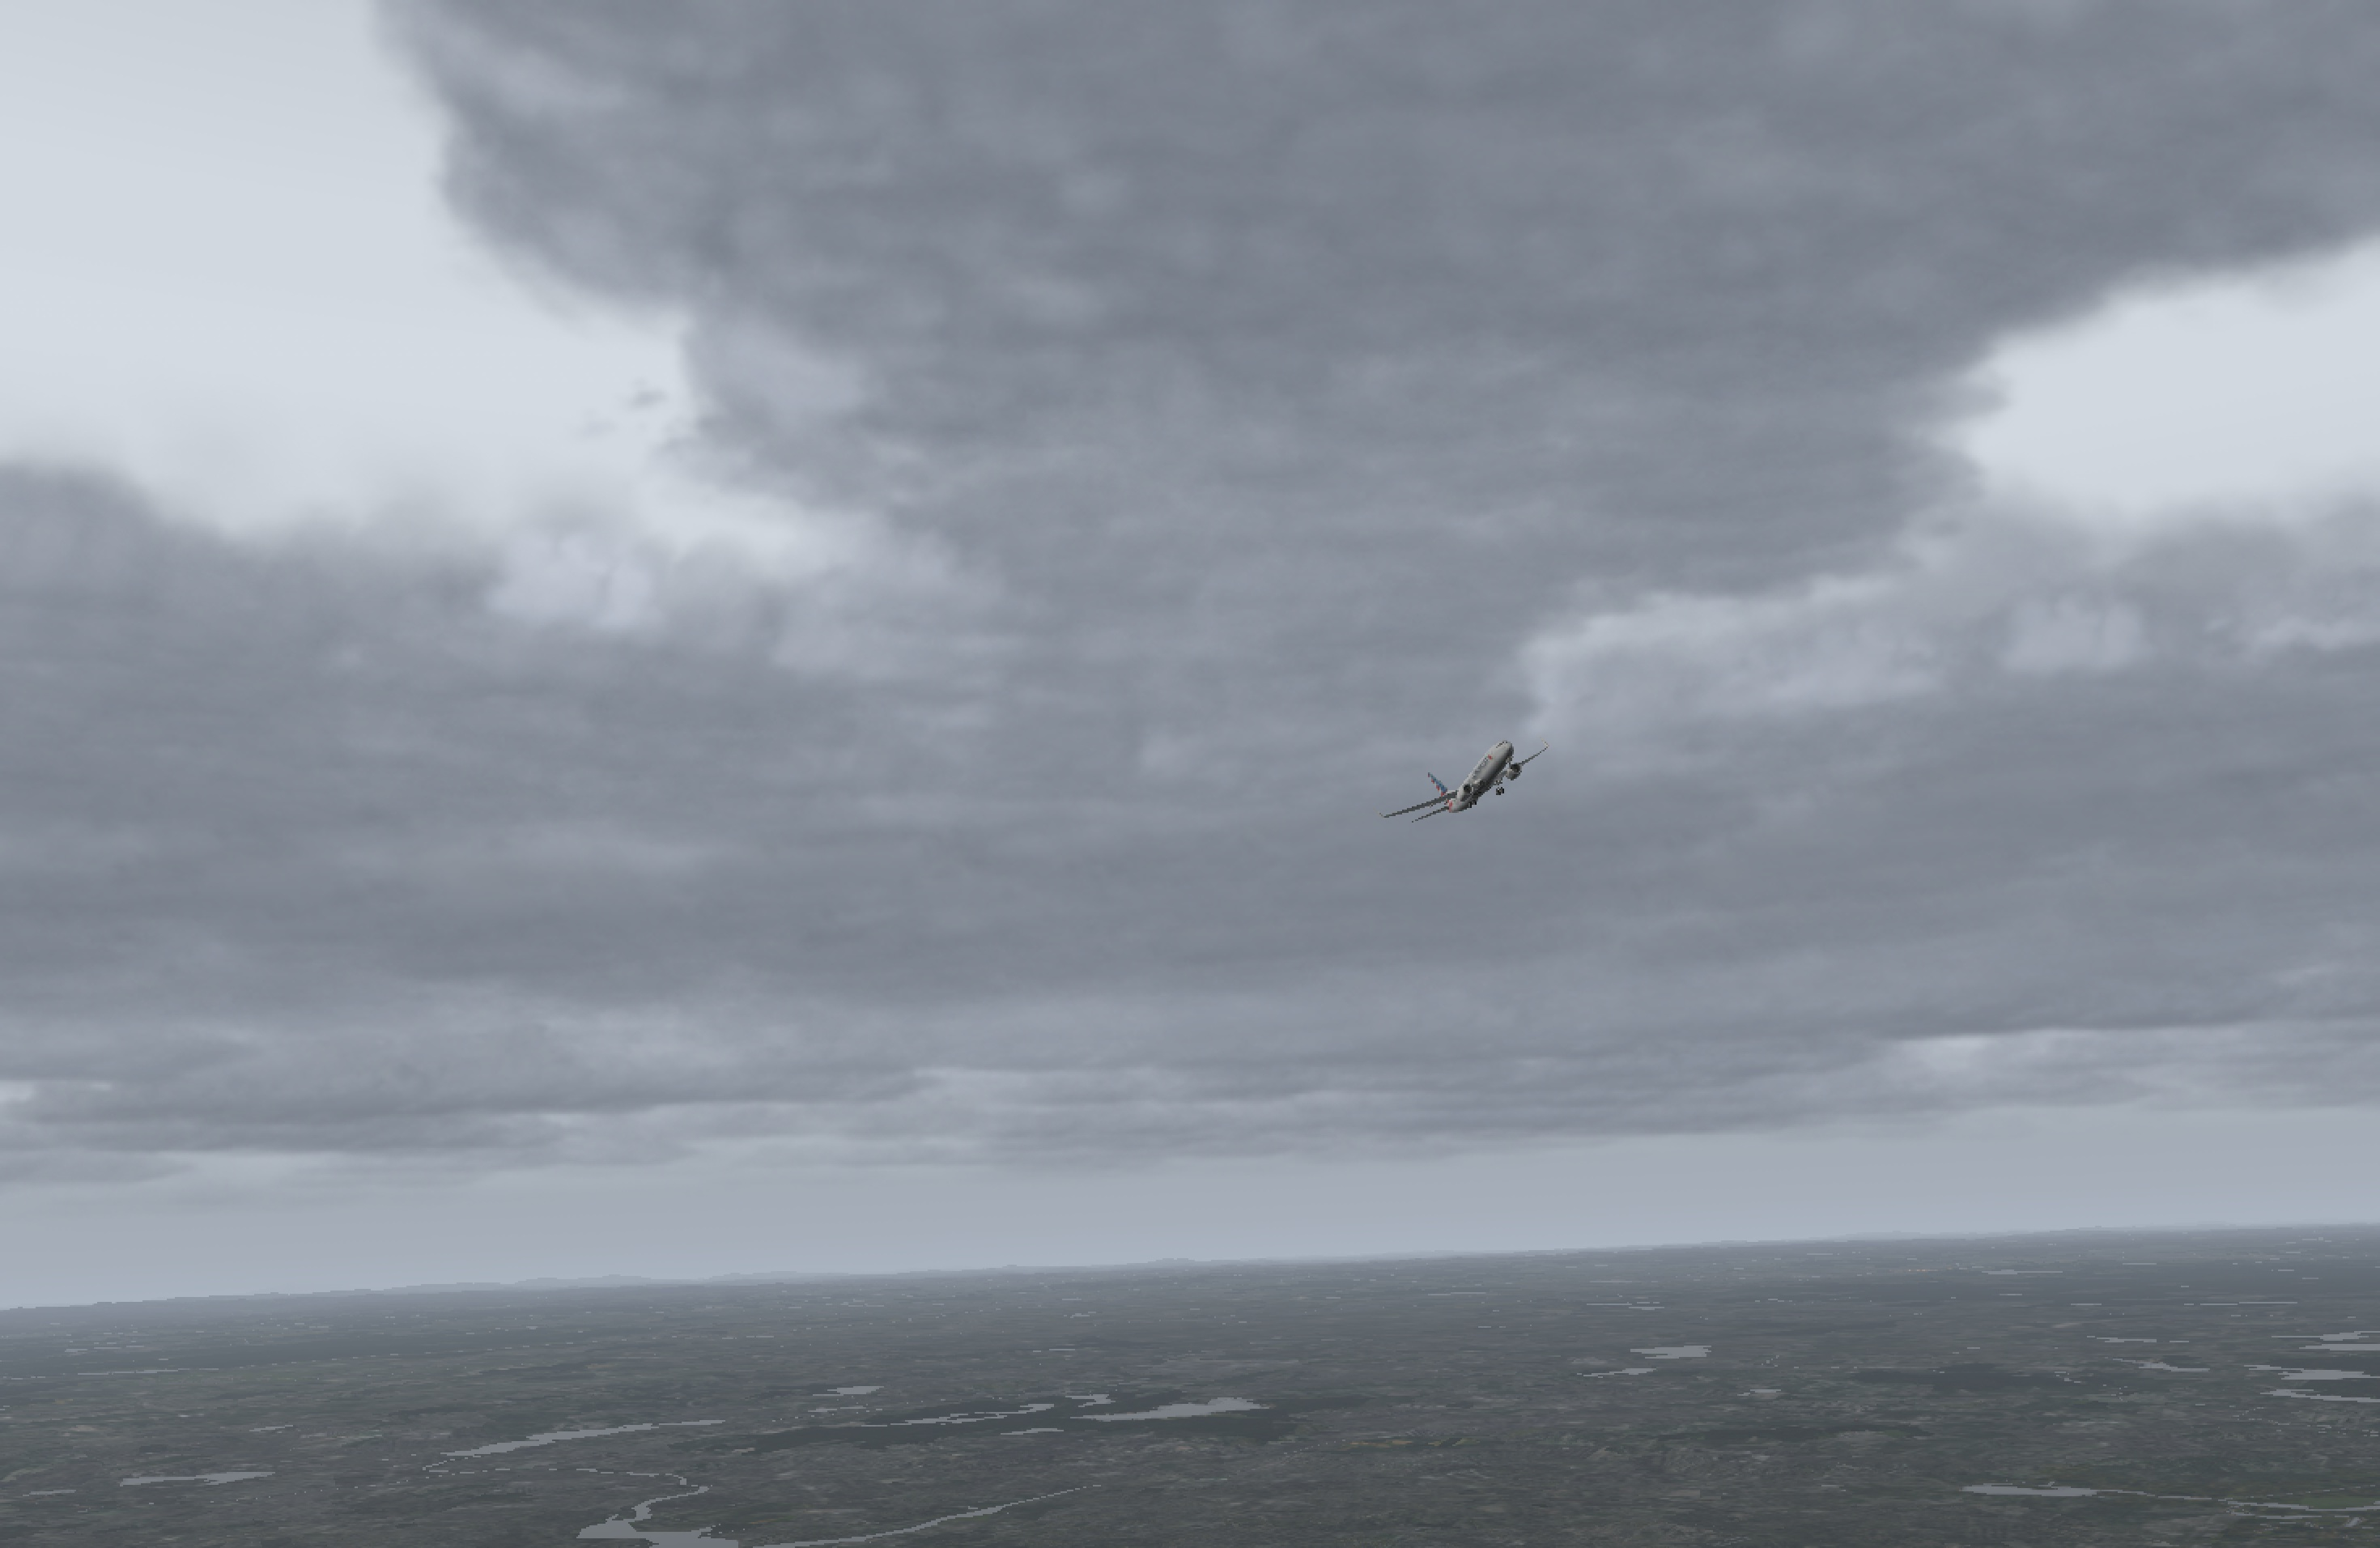aircraft: (1369, 741, 1594, 824)
